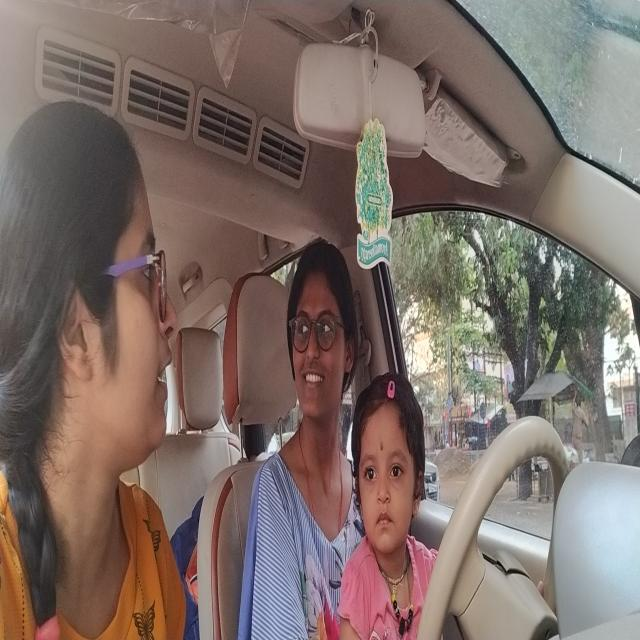child: (351, 372, 429, 566)
person: (284, 237, 357, 442)
